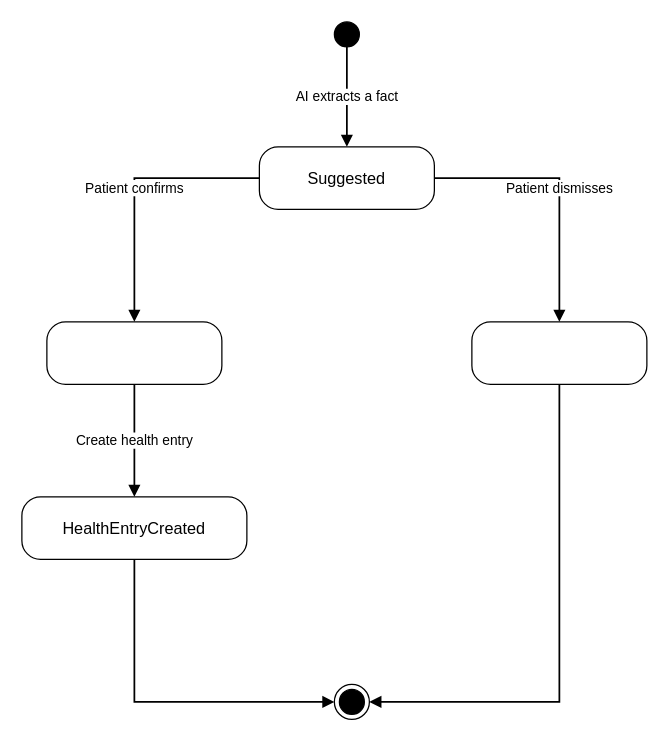
This 669x741 diagram has some shape labels left out. Each missing label, with the centre of its shape:
Confirmed: (x=134, y=352)
Rejected: (x=559, y=352)
